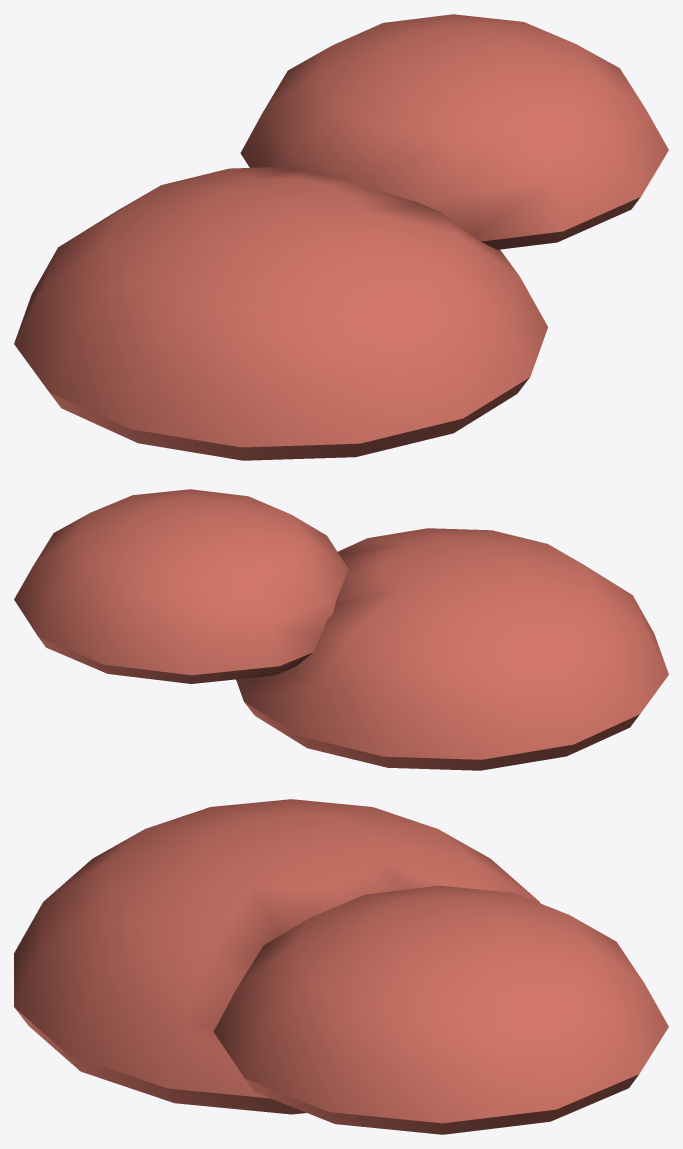
File: forage_shell.glb
3 renders of one model, top to bottom at view 1: azimuth 30°, elevation 25°; view 2: azimuth 150°, elevation 25°; view 3: azimuth 270°, elevation 25°, orthographic. The views are drawn at different scales.
Visible parts, largest first — view 1: PART; view 2: PART; view 3: PART.
Boxes of the visible parts, <box> form: PART: <box>14,14,668,460</box>; PART: <box>14,489,668,770</box>; PART: <box>14,799,668,1134</box>.
Bounding box in the file's own units: 0.1084 × 0.0304 × 0.0874.
